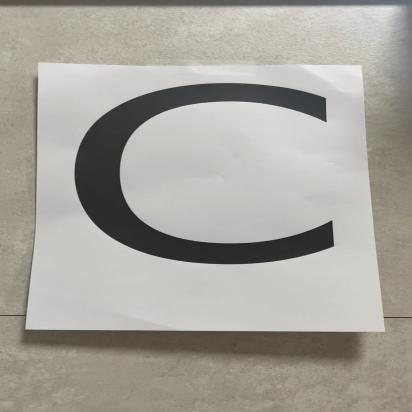seat: (34, 66, 380, 324), (0, 70, 333, 272), (313, 280, 350, 292)
